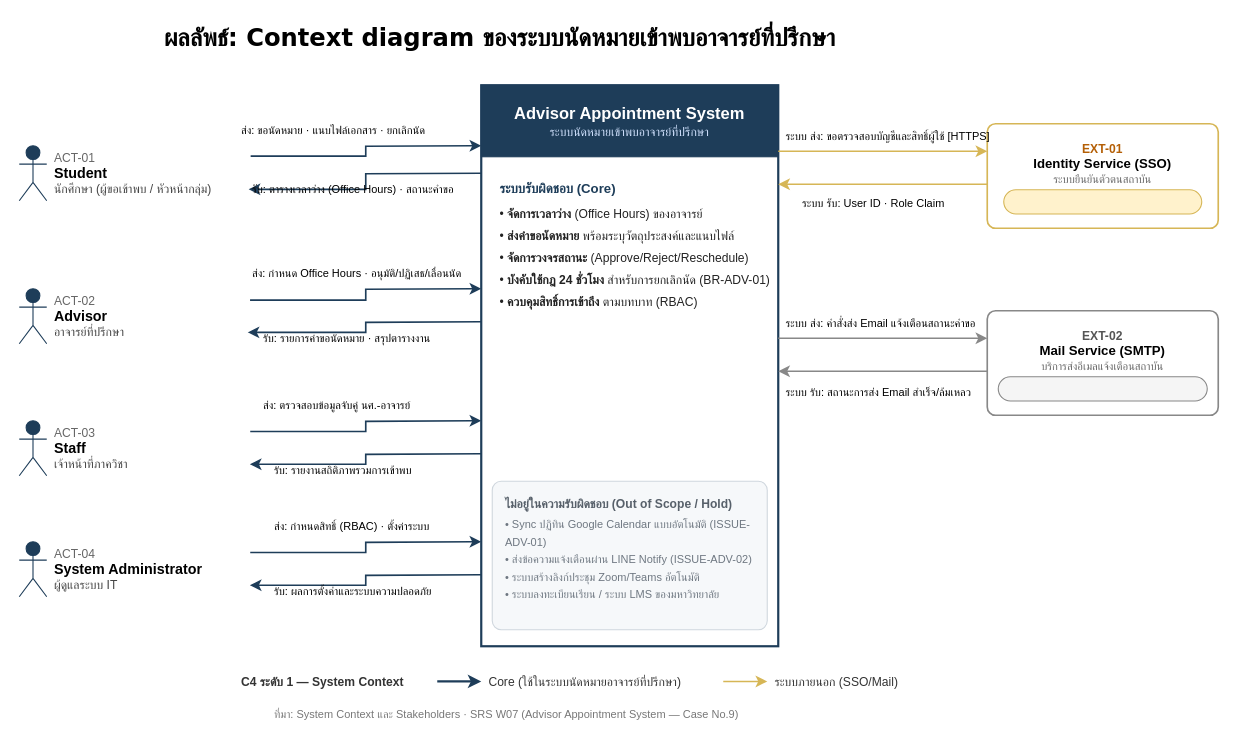
This 1239x747 diagram has some shape labels left out. The shapes that lost their labels are listed below. From the top down, each one's centre as x and y in pixels, then its label:
the point at 1102,201: Core · ตรวจสอบบัญชีผู้ใช้และ Role
the point at 1102,388: Core / Supporting · ส่ง Email แจ้งเตือน
